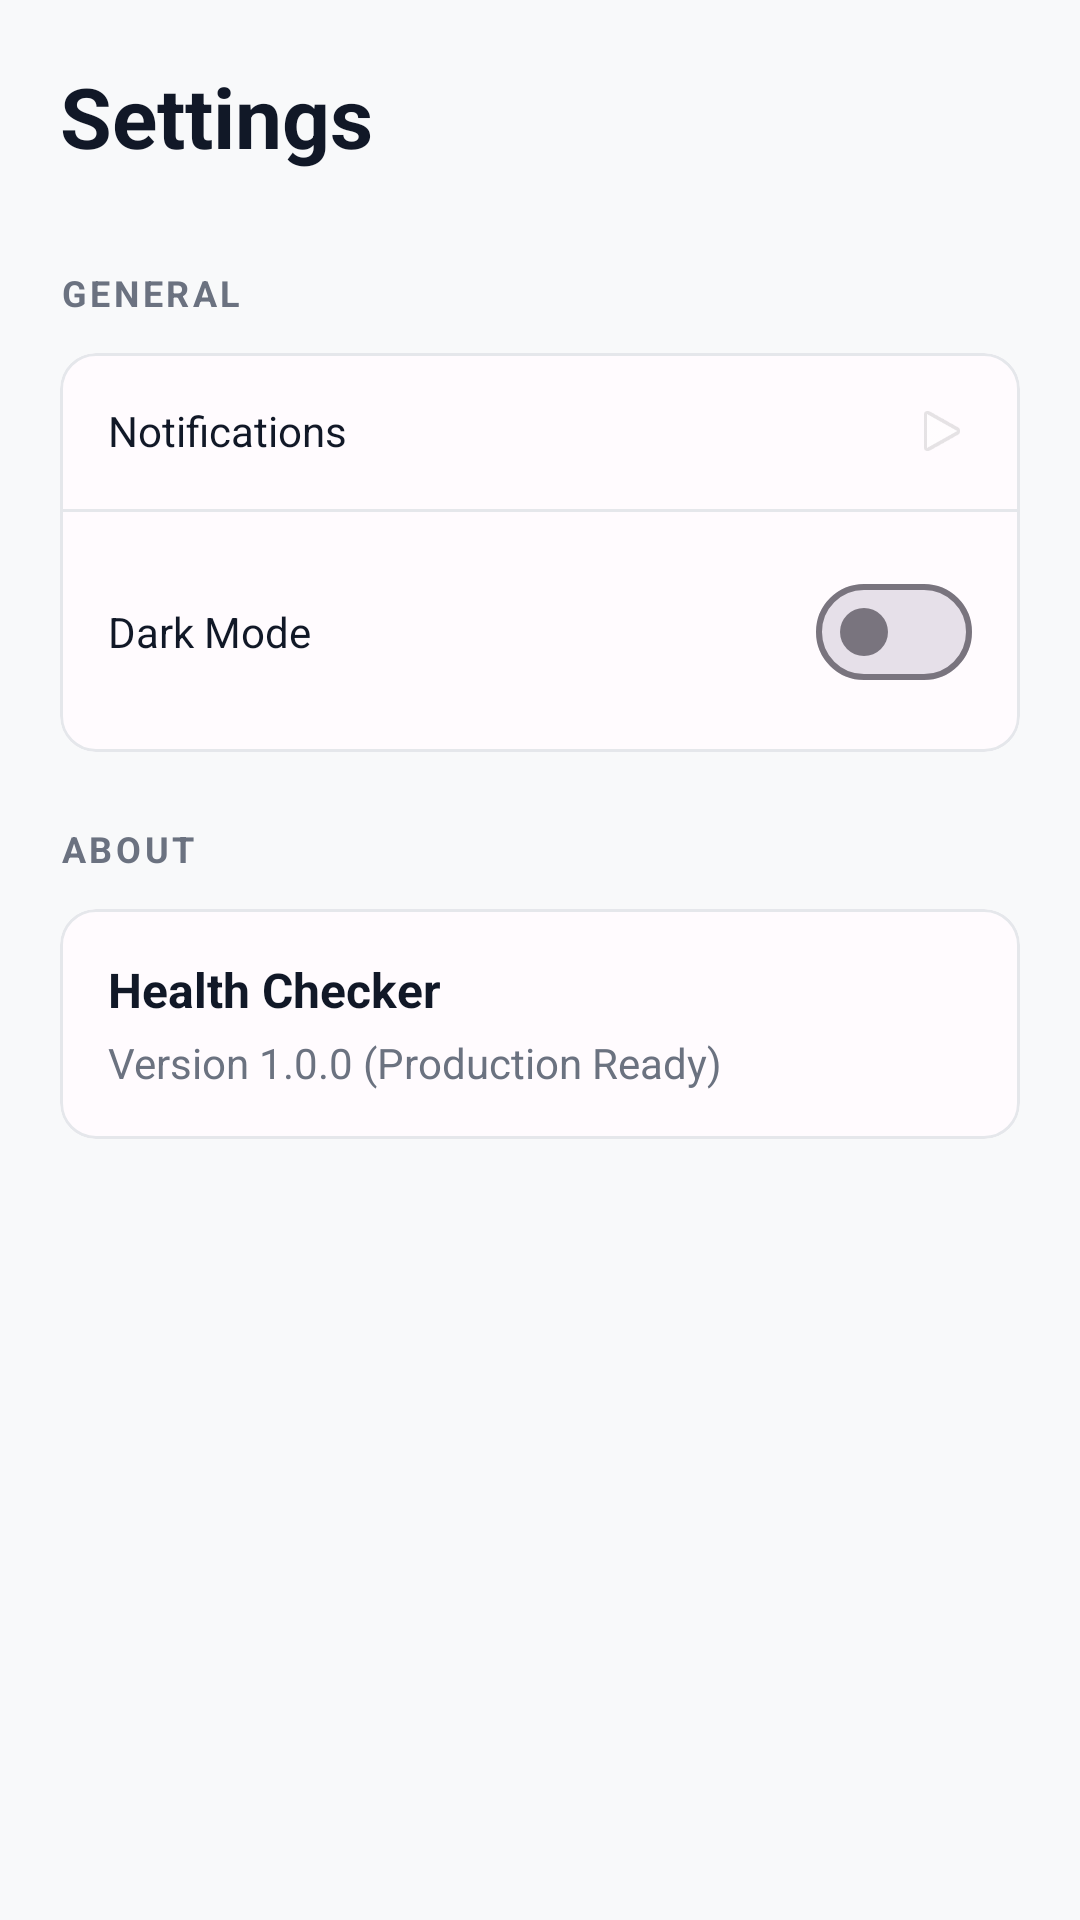

Icon bounding boxes for this 1080×1920 phone screenshot, format (x1, y1, x2, y2):
play: (924, 411, 960, 451)
